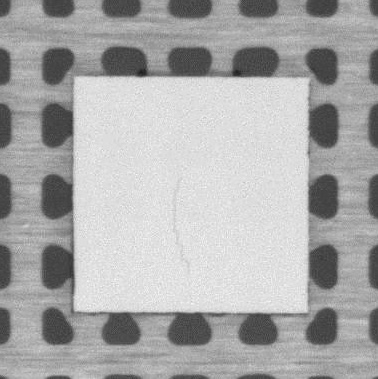DIE_CRACK: (172, 177, 191, 279)
